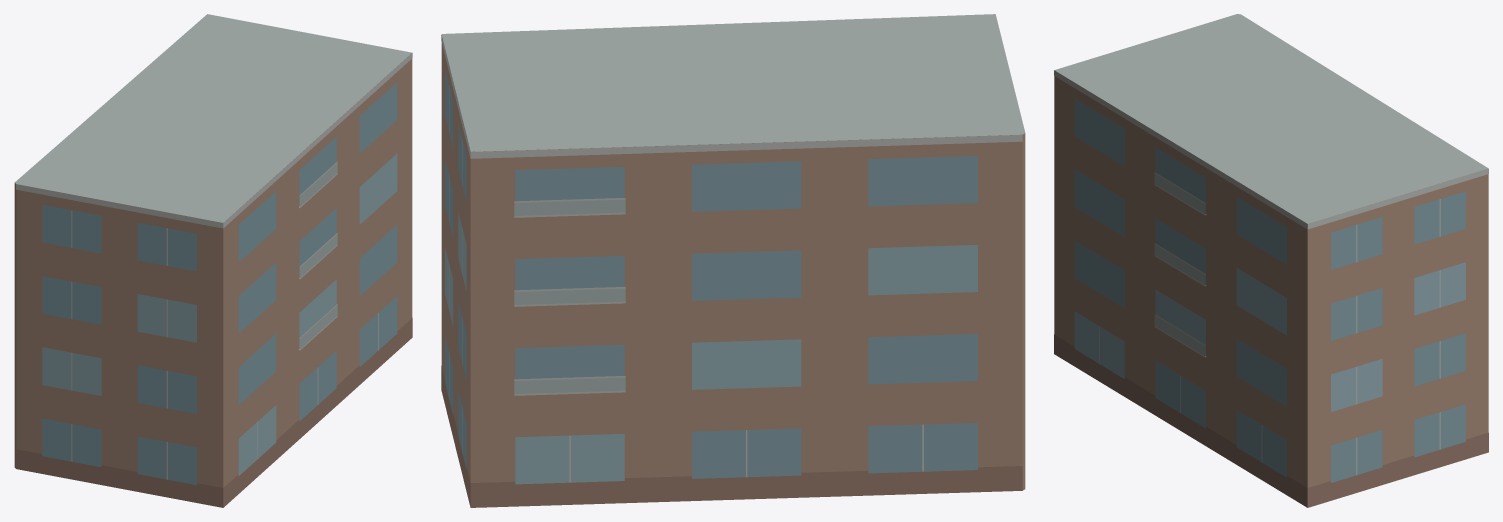
Rendered from survey-upis-32775439.glb.
3 renders of one model, left to right at view 1: azimuth 30°, elevation 25°; view 2: azimuth 150°, elevation 25°; view 3: azimuth 270°, elevation 25°, orthographic. The views are drawn at different scales.
Parts seen in each view (by area): view 1: survey-upis-32775439.tmp; view 2: survey-upis-32775439.tmp; view 3: survey-upis-32775439.tmp.
Part boxes in pixels (box(x1,y1,x2,y2)): survey-upis-32775439.tmp: box(14, 14, 412, 507); survey-upis-32775439.tmp: box(441, 14, 1025, 507); survey-upis-32775439.tmp: box(1054, 14, 1488, 507).
Bounding box in the file's own units: 19.75 × 12.45 × 17.28.
